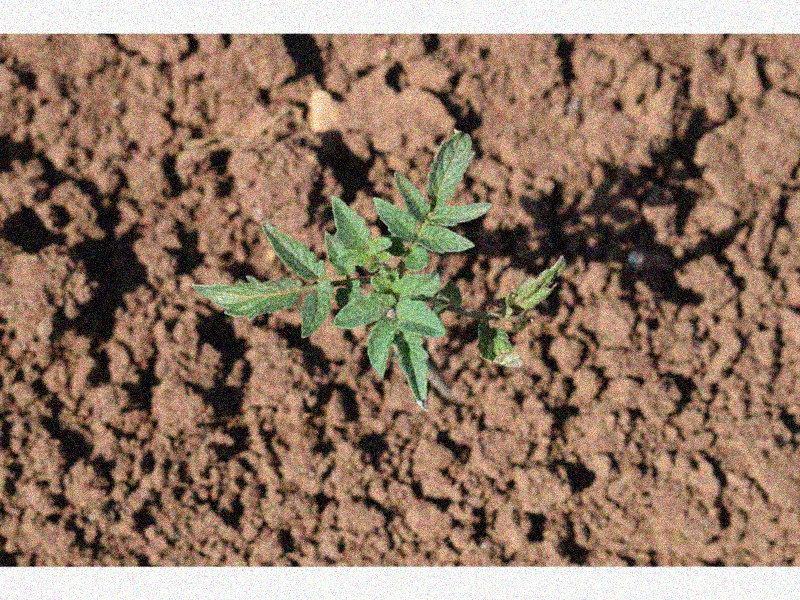tomato: (193, 129, 568, 408)
